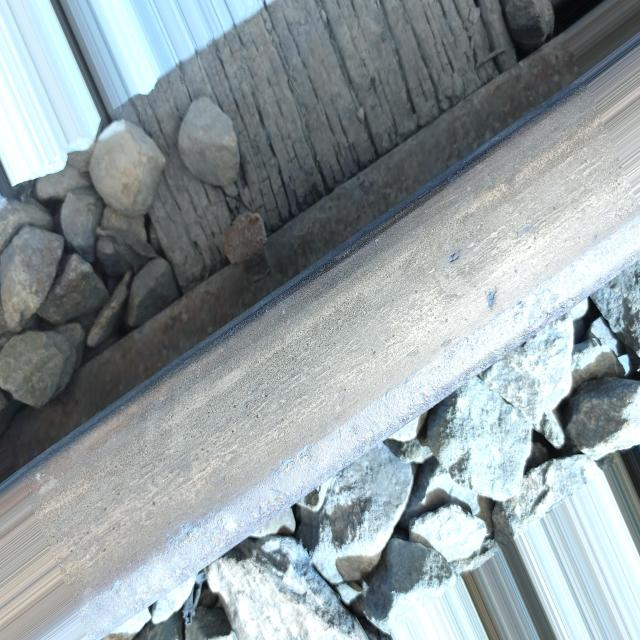non-defective: (2, 17, 638, 638)
